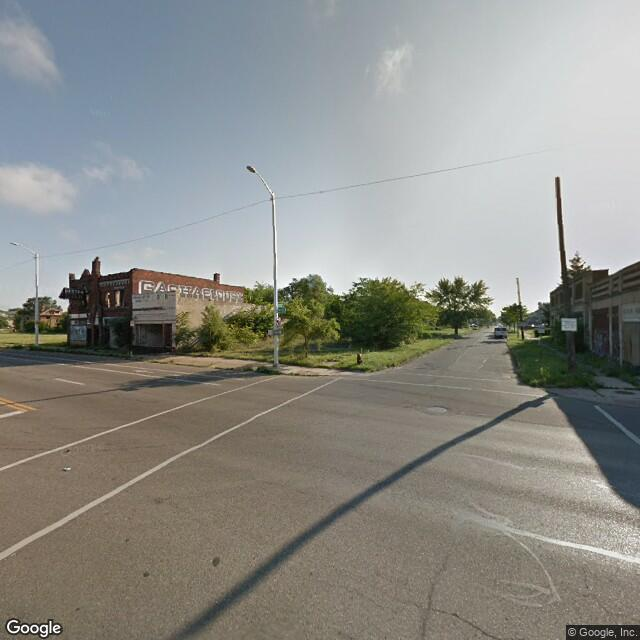litter: (62, 463, 73, 472)
